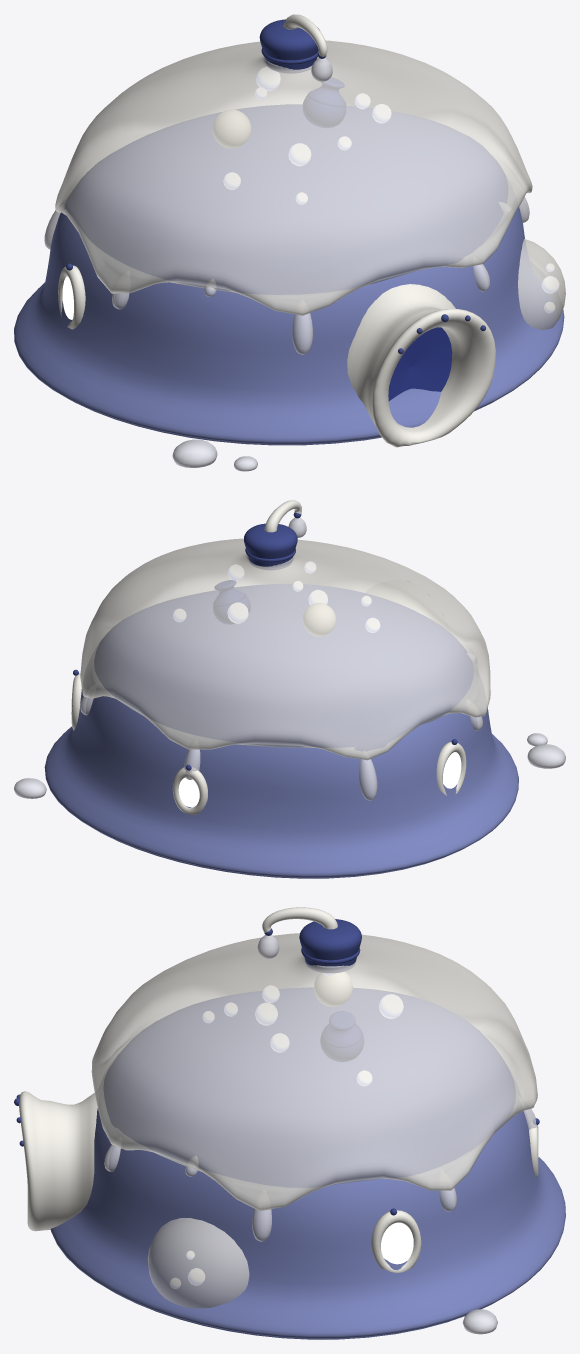
File: house_02_0207.fbx
3 views of the same model, one above another, from view 1: azimuth 30°, elevation 25°; view 2: azimuth 150°, elevation 25°; view 3: azimuth 270°, elevation 25° (orthographic). The views are drawn at different scales.
Visible parts, largest first — view 1: House02_Body_Base, House02_Dome_JellyClear, House02_Entrance_Tunnel, House02_Blister_JellyClear, House02_Entrance_Shadow, House02_Top_Plug, House02_Float_Pot, House02_Float_Lamp, House02_Puddle_1, House02_WindowLip_L, House02_Drip_6, House02_Top_Sprout; view 2: House02_Body_Base, House02_Dome_JellyClear, House02_Top_Plug, House02_Float_Lamp, House02_WindowLip_Back, House02_Float_Pot, House02_Puddle_1, House02_WindowLip_L, House02_Drip_4, House02_Puddle_3, House02_Top_Sprout, House02_Window_L (+1 smaller); view 3: House02_Body_Base, House02_Dome_JellyClear, House02_Entrance_Tunnel, House02_Blister_JellyClear, House02_Top_Plug, House02_Float_Pot, House02_WindowLip_R, House02_Window_R, House02_Float_Lamp, House02_Top_Sprout, House02_Puddle_3, House02_Drip_1.
Boxes of the visible parts, x1,y1,x2,y2 form: House02_Body_Base: (14, 104, 564, 445); House02_Dome_JellyClear: (55, 40, 532, 315); House02_Entrance_Tunnel: (347, 284, 495, 447); House02_Blister_JellyClear: (518, 239, 565, 329); House02_Entrance_Shadow: (388, 327, 452, 401); House02_Top_Plug: (259, 19, 319, 73); House02_Float_Pot: (303, 77, 345, 127); House02_Float_Lamp: (212, 110, 250, 148); House02_Puddle_1: (172, 439, 217, 467); House02_WindowLip_L: (58, 265, 85, 329); House02_Drip_6: (292, 313, 313, 354); House02_Top_Sprout: (283, 14, 327, 56); House02_Body_Base: (44, 584, 518, 878); House02_Dome_JellyClear: (80, 538, 490, 760); House02_Top_Plug: (244, 523, 297, 569); House02_Float_Lamp: (303, 603, 335, 636); House02_WindowLip_Back: (172, 767, 207, 814); House02_Float_Pot: (213, 580, 250, 624); House02_Puddle_1: (527, 744, 565, 768); House02_WindowLip_L: (436, 742, 466, 795); House02_Drip_4: (359, 751, 377, 800); House02_Puddle_3: (14, 778, 46, 798); House02_Top_Sprout: (264, 500, 301, 532); House02_Window_L: (443, 752, 461, 788); House02_Body_Base: (50, 987, 565, 1339); House02_Dome_JellyClear: (91, 933, 537, 1211); House02_Entrance_Tunnel: (19, 1091, 97, 1231); House02_Blister_JellyClear: (147, 1218, 249, 1308); House02_Top_Plug: (299, 919, 361, 972); House02_Float_Pot: (320, 1011, 364, 1061); House02_WindowLip_R: (371, 1210, 421, 1272); House02_Window_R: (381, 1222, 413, 1264); House02_Float_Lamp: (314, 972, 352, 1006); House02_Top_Sprout: (262, 907, 337, 932); House02_Puddle_3: (462, 1309, 497, 1334); House02_Drip_1: (252, 1208, 271, 1241).
Size of the model in its own units: 6.3 by 3.96 by 6.2.
